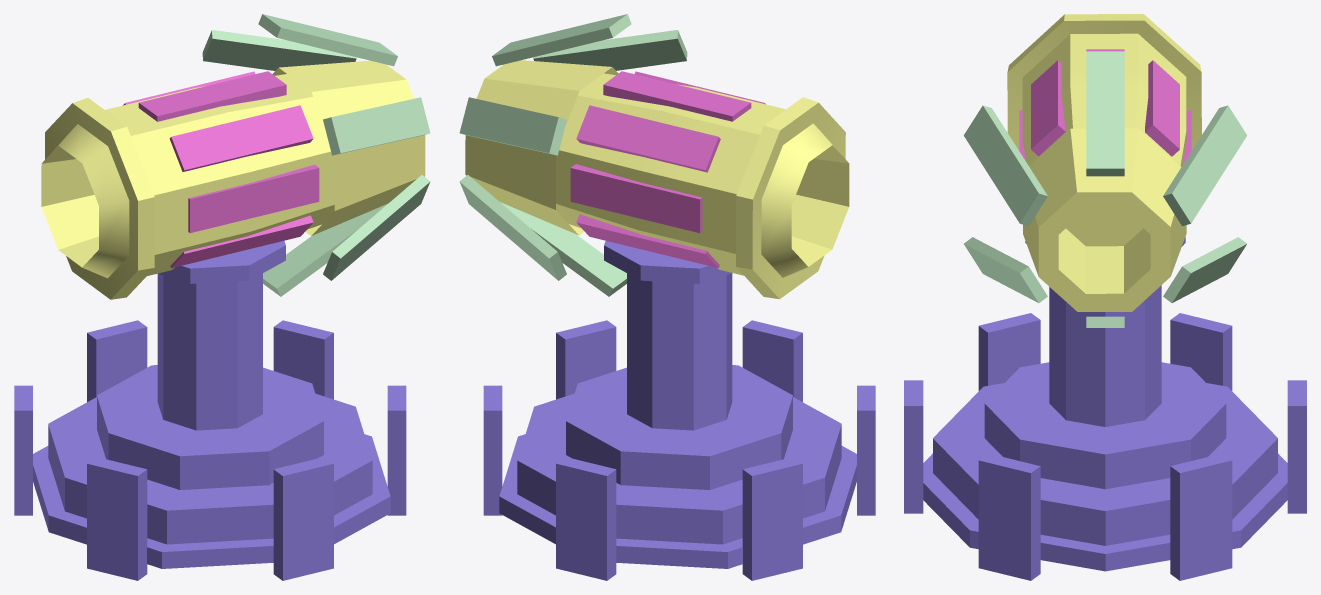
Rendered from Turret02Color.fbx.
3 renders of one model, left to right at view 1: azimuth 30°, elevation 25°; view 2: azimuth 150°, elevation 25°; view 3: azimuth 270°, elevation 25°, orthographic. The views are drawn at different scales.
Parts seen in each view (by area): view 1: 克隆_2, 圆柱, 克隆_3, 立方体_1_5, 立方体_1_1, 立方体_1_3, 立方体_1_4, 立方体_1_0; view 2: 克隆_2, 圆柱, 克隆_3, 立方体_1_1, 立方体_1_5, 立方体_1_3, 立方体_1_2, 立方体_1_0; view 3: 克隆_2, 圆柱, 克隆_3, 立方体_1_0, 立方体_1_1, 立方体_1_5, 立方体_1_2, 立方体_1_4.
Boxes of the visible parts, x1=… form: 克隆_2: x1=14, y1=241, x2=406, y2=580; 圆柱: x1=41, y1=60, x2=425, y2=299; 克隆_3: x1=123, y1=71, x2=319, y2=267; 立方体_1_5: x1=323, y1=97, x2=430, y2=155; 立方体_1_1: x1=202, y1=30, x2=356, y2=70; 立方体_1_3: x1=263, y1=203, x2=387, y2=296; 立方体_1_4: x1=323, y1=175, x2=430, y2=280; 立方体_1_0: x1=258, y1=14, x2=397, y2=66; 克隆_2: x1=483, y1=241, x2=875, y2=580; 圆柱: x1=465, y1=60, x2=849, y2=299; 克隆_3: x1=570, y1=71, x2=765, y2=267; 立方体_1_1: x1=459, y1=97, x2=566, y2=155; 立方体_1_5: x1=533, y1=30, x2=687, y2=70; 立方体_1_3: x1=500, y1=202, x2=626, y2=296; 立方体_1_2: x1=459, y1=175, x2=566, y2=280; 立方体_1_0: x1=492, y1=14, x2=631, y2=66; 克隆_2: x1=904, y1=237, x2=1306, y2=580; 圆柱: x1=1007, y1=14, x2=1201, y2=311; 克隆_3: x1=1019, y1=49, x2=1191, y2=165; 立方体_1_0: x1=1086, y1=51, x2=1124, y2=176; 立方体_1_1: x1=1163, y1=105, x2=1246, y2=226; 立方体_1_5: x1=964, y1=105, x2=1047, y2=226; 立方体_1_2: x1=1163, y1=237, x2=1246, y2=302; 立方体_1_4: x1=964, y1=237, x2=1047, y2=302.
Bounding box in the file's own units: 106 × 138 × 105.
